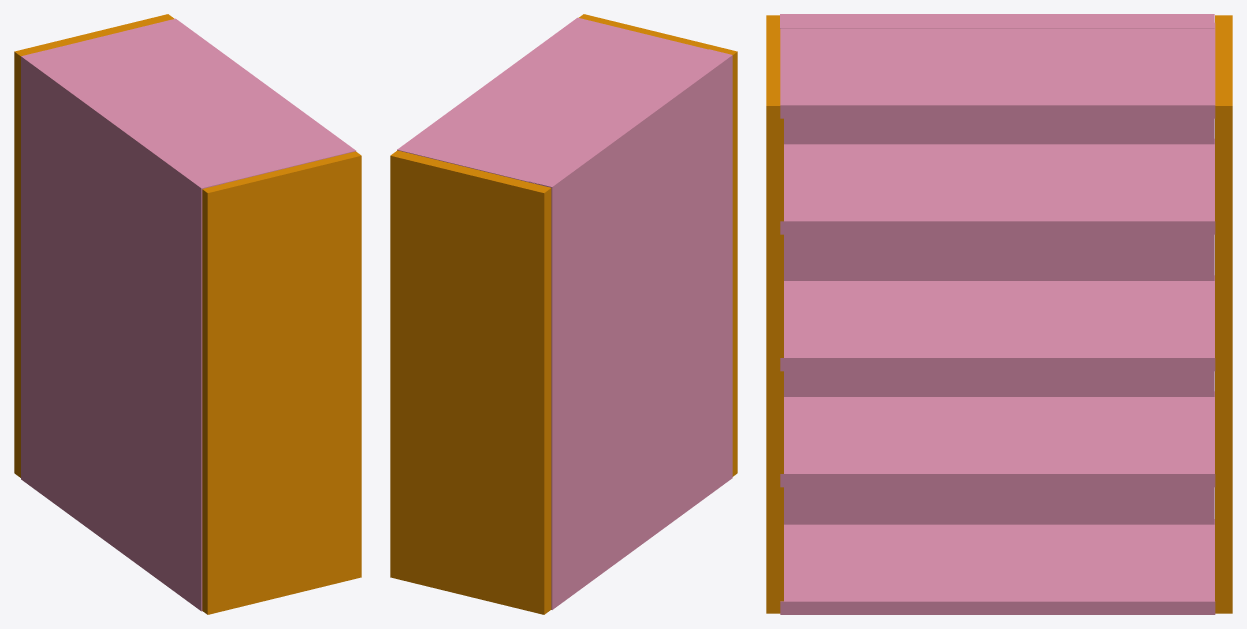
The model's file is Shelf new new new.fbx.
3 renders of one model, left to right at view 1: azimuth 30°, elevation 25°; view 2: azimuth 150°, elevation 25°; view 3: azimuth 270°, elevation 25°, orthographic. The views are drawn at different scales.
Visible parts, largest first — view 1: Cube.006, Plane, Cube.007; view 2: Cube.006, Plane, Cube.007; view 3: Cube.006, Cube.007, Cube, Cube.002, Cube.003, Cube.005, Plane.
Part boxes in pixels (x1,y1,x2,y2): Cube.006: (21, 50, 224, 611); Plane: (14, 14, 361, 614); Cube.007: (45, 18, 356, 182); Cube.006: (529, 49, 732, 609); Plane: (390, 14, 737, 614); Cube.007: (397, 17, 708, 184); Cube.006: (780, 14, 1214, 524); Cube.007: (780, 23, 1215, 118); Cube: (780, 391, 1215, 487); Cube.002: (780, 275, 1215, 371); Cube.003: (780, 519, 1215, 614); Cube.005: (780, 139, 1215, 234); Plane: (766, 15, 1232, 613).
Size of the model in its own units: 150 by 390 by 323.
